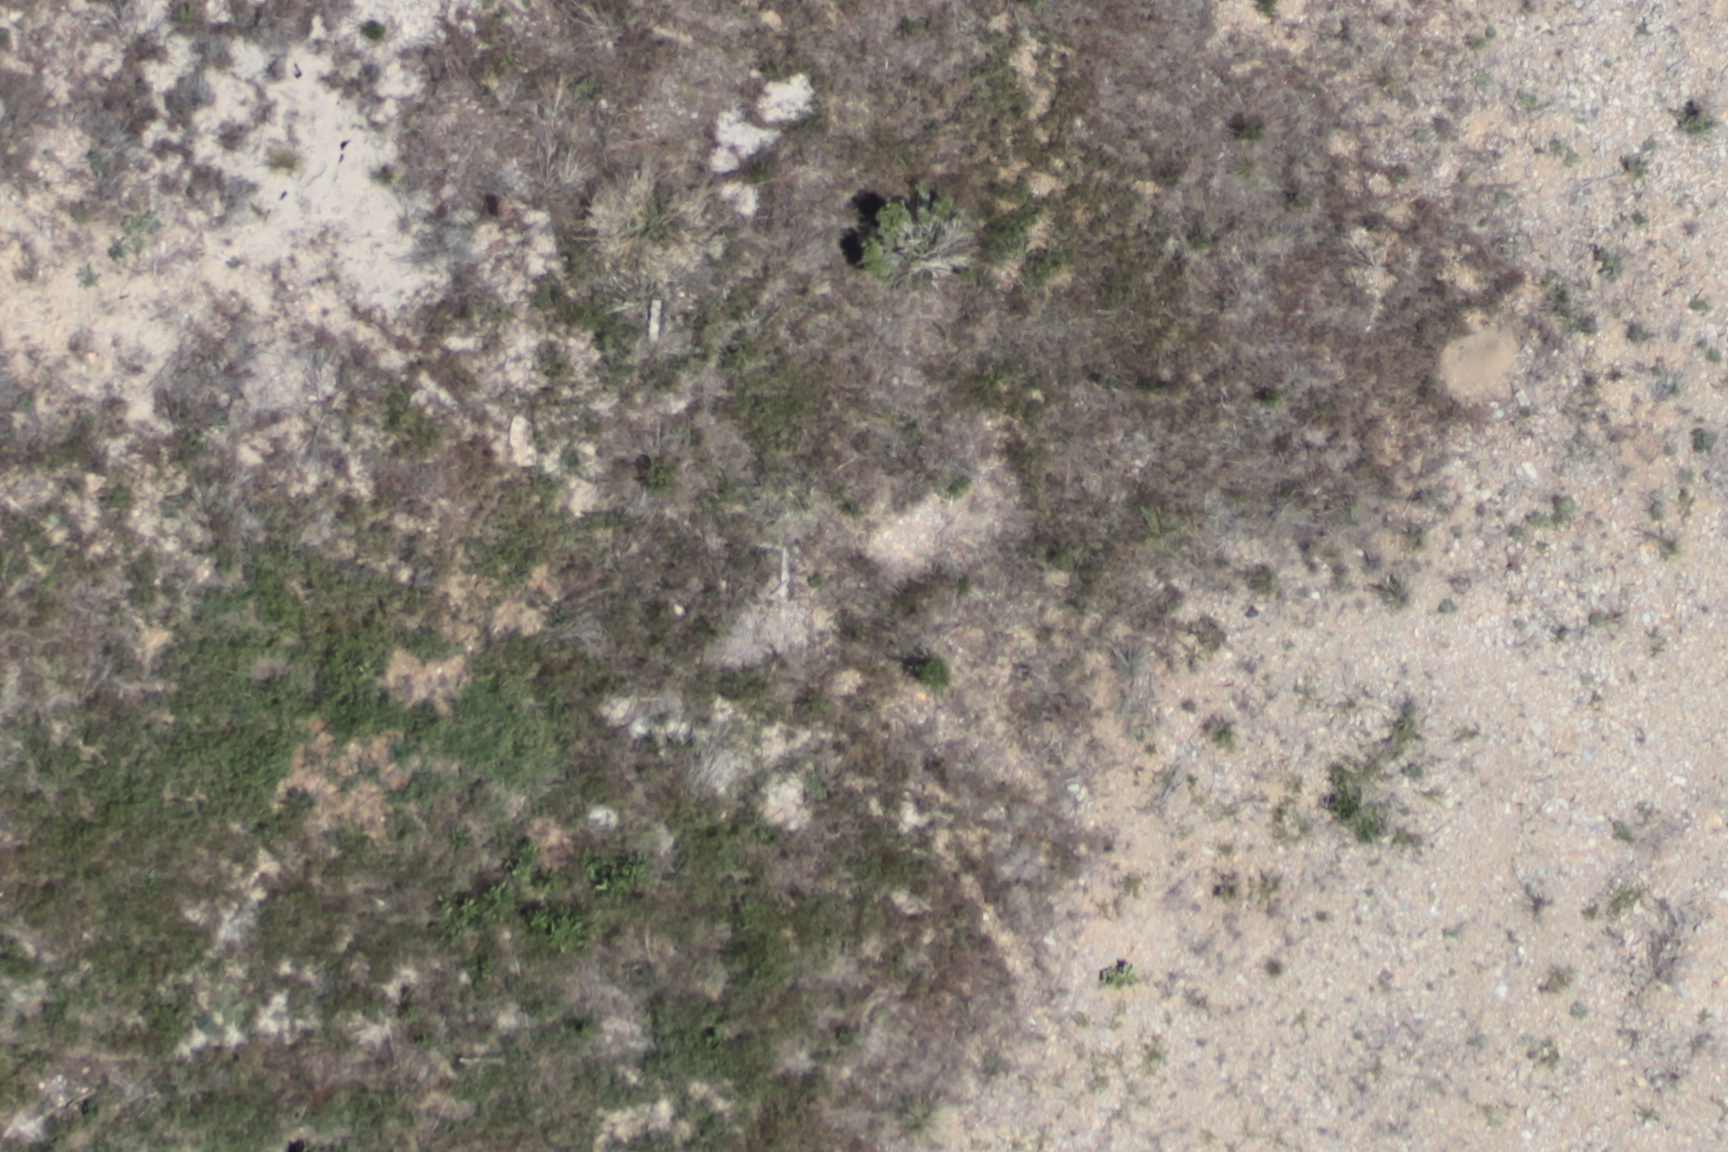burrow: (1449, 328, 1527, 399)
